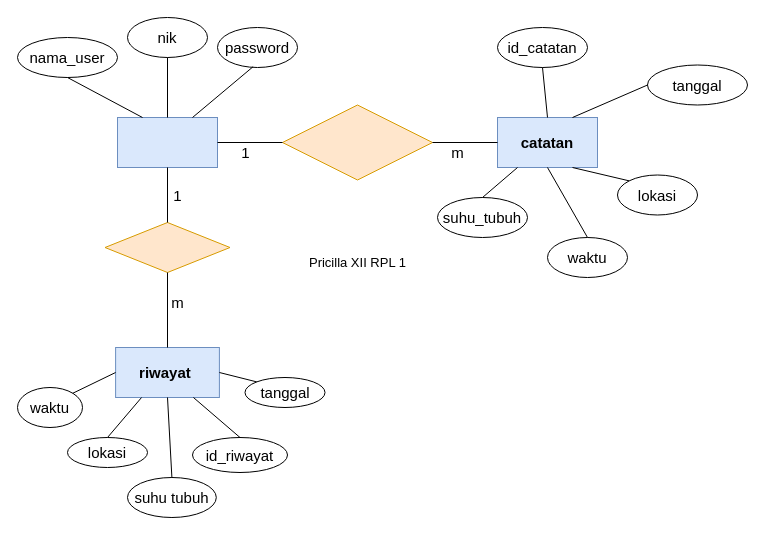
Some shapes in this 765 by 535 pixel diagram are drawn without their labels. The shapes that lost their labels are listed below. From the top down, each one's box as (x1, y1, x2, y2) in pixels, then its label:
(116, 116, 218, 168): user
(282, 104, 432, 180): menambahkan
(104, 222, 230, 272): melihat
